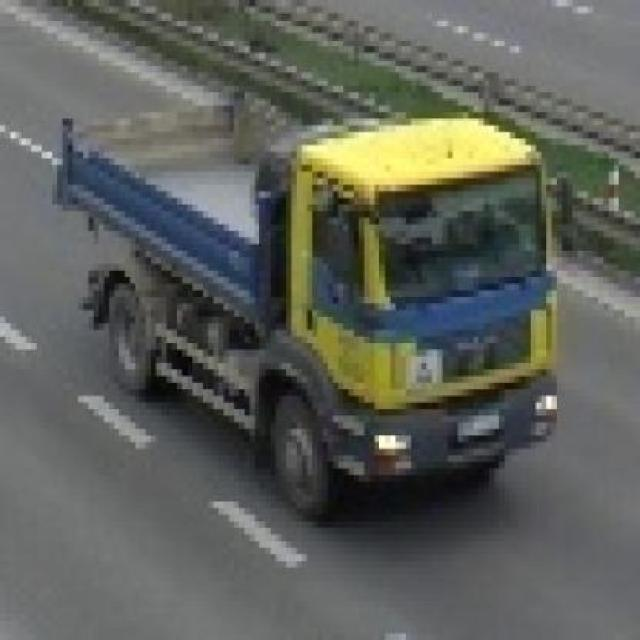truck: (63, 87, 579, 516)
